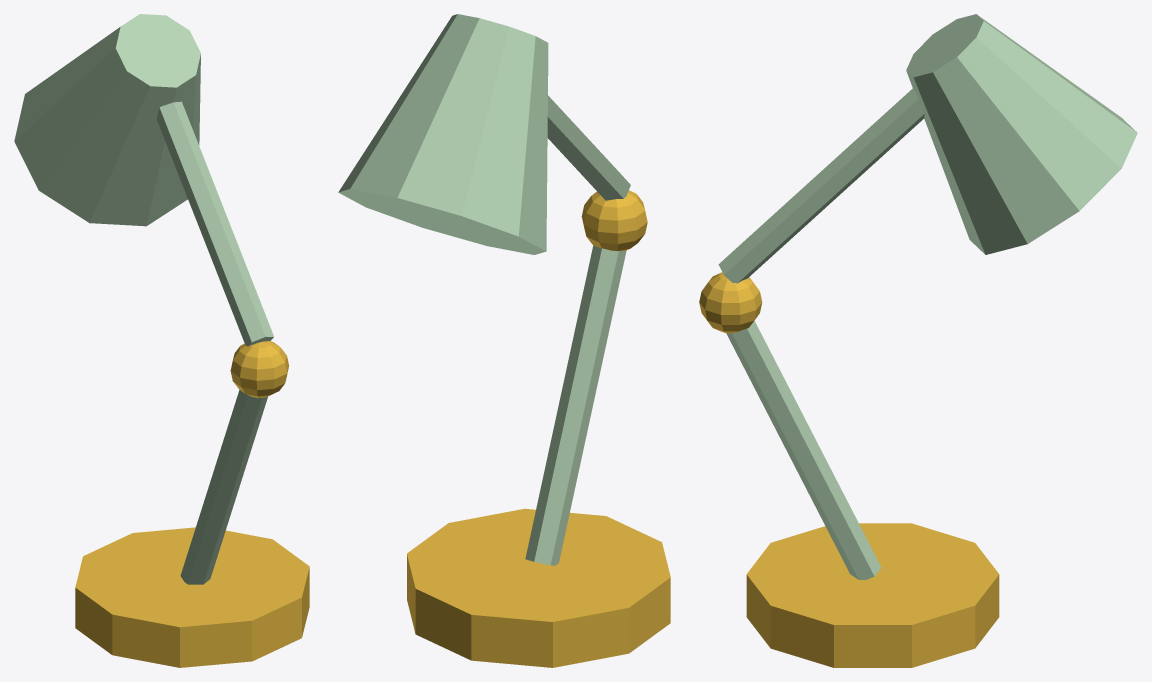
The model's file is Furniture_DeskLamp.glb.
3 renders of one model, left to right at view 1: azimuth 30°, elevation 25°; view 2: azimuth 150°, elevation 25°; view 3: azimuth 270°, elevation 25°, orthographic. The views are drawn at different scales.
Visible parts, largest first — view 1: Furniture_DeskLamp; view 2: Furniture_DeskLamp; view 3: Furniture_DeskLamp.
Boxes of the visible parts, x1=… form: Furniture_DeskLamp: x1=14, y1=14, x2=309, y2=667; Furniture_DeskLamp: x1=338, y1=14, x2=670, y2=667; Furniture_DeskLamp: x1=699, y1=14, x2=1137, y2=667.
Bounding box in the file's own units: 0.1522 × 0.4164 × 0.2777.
